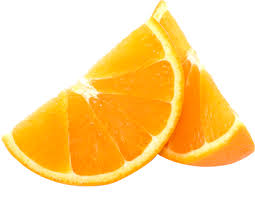orange: (4, 16, 185, 179), (143, 6, 255, 168)
